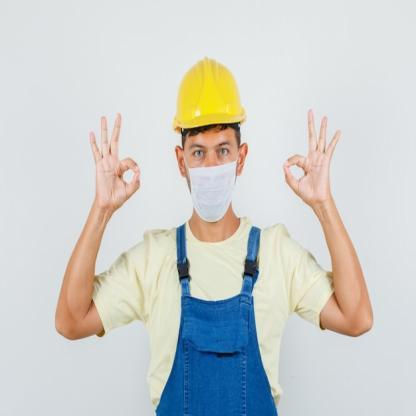ok: (282, 106, 343, 206), (87, 110, 144, 210)
